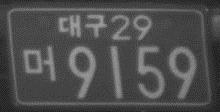1: (104, 46, 130, 99)
2: (110, 14, 130, 40)
5: (136, 45, 165, 99)
9: (68, 45, 97, 98), (168, 46, 197, 99), (133, 14, 152, 40)
대구_O: (57, 13, 106, 37)
머: (22, 46, 56, 80)
